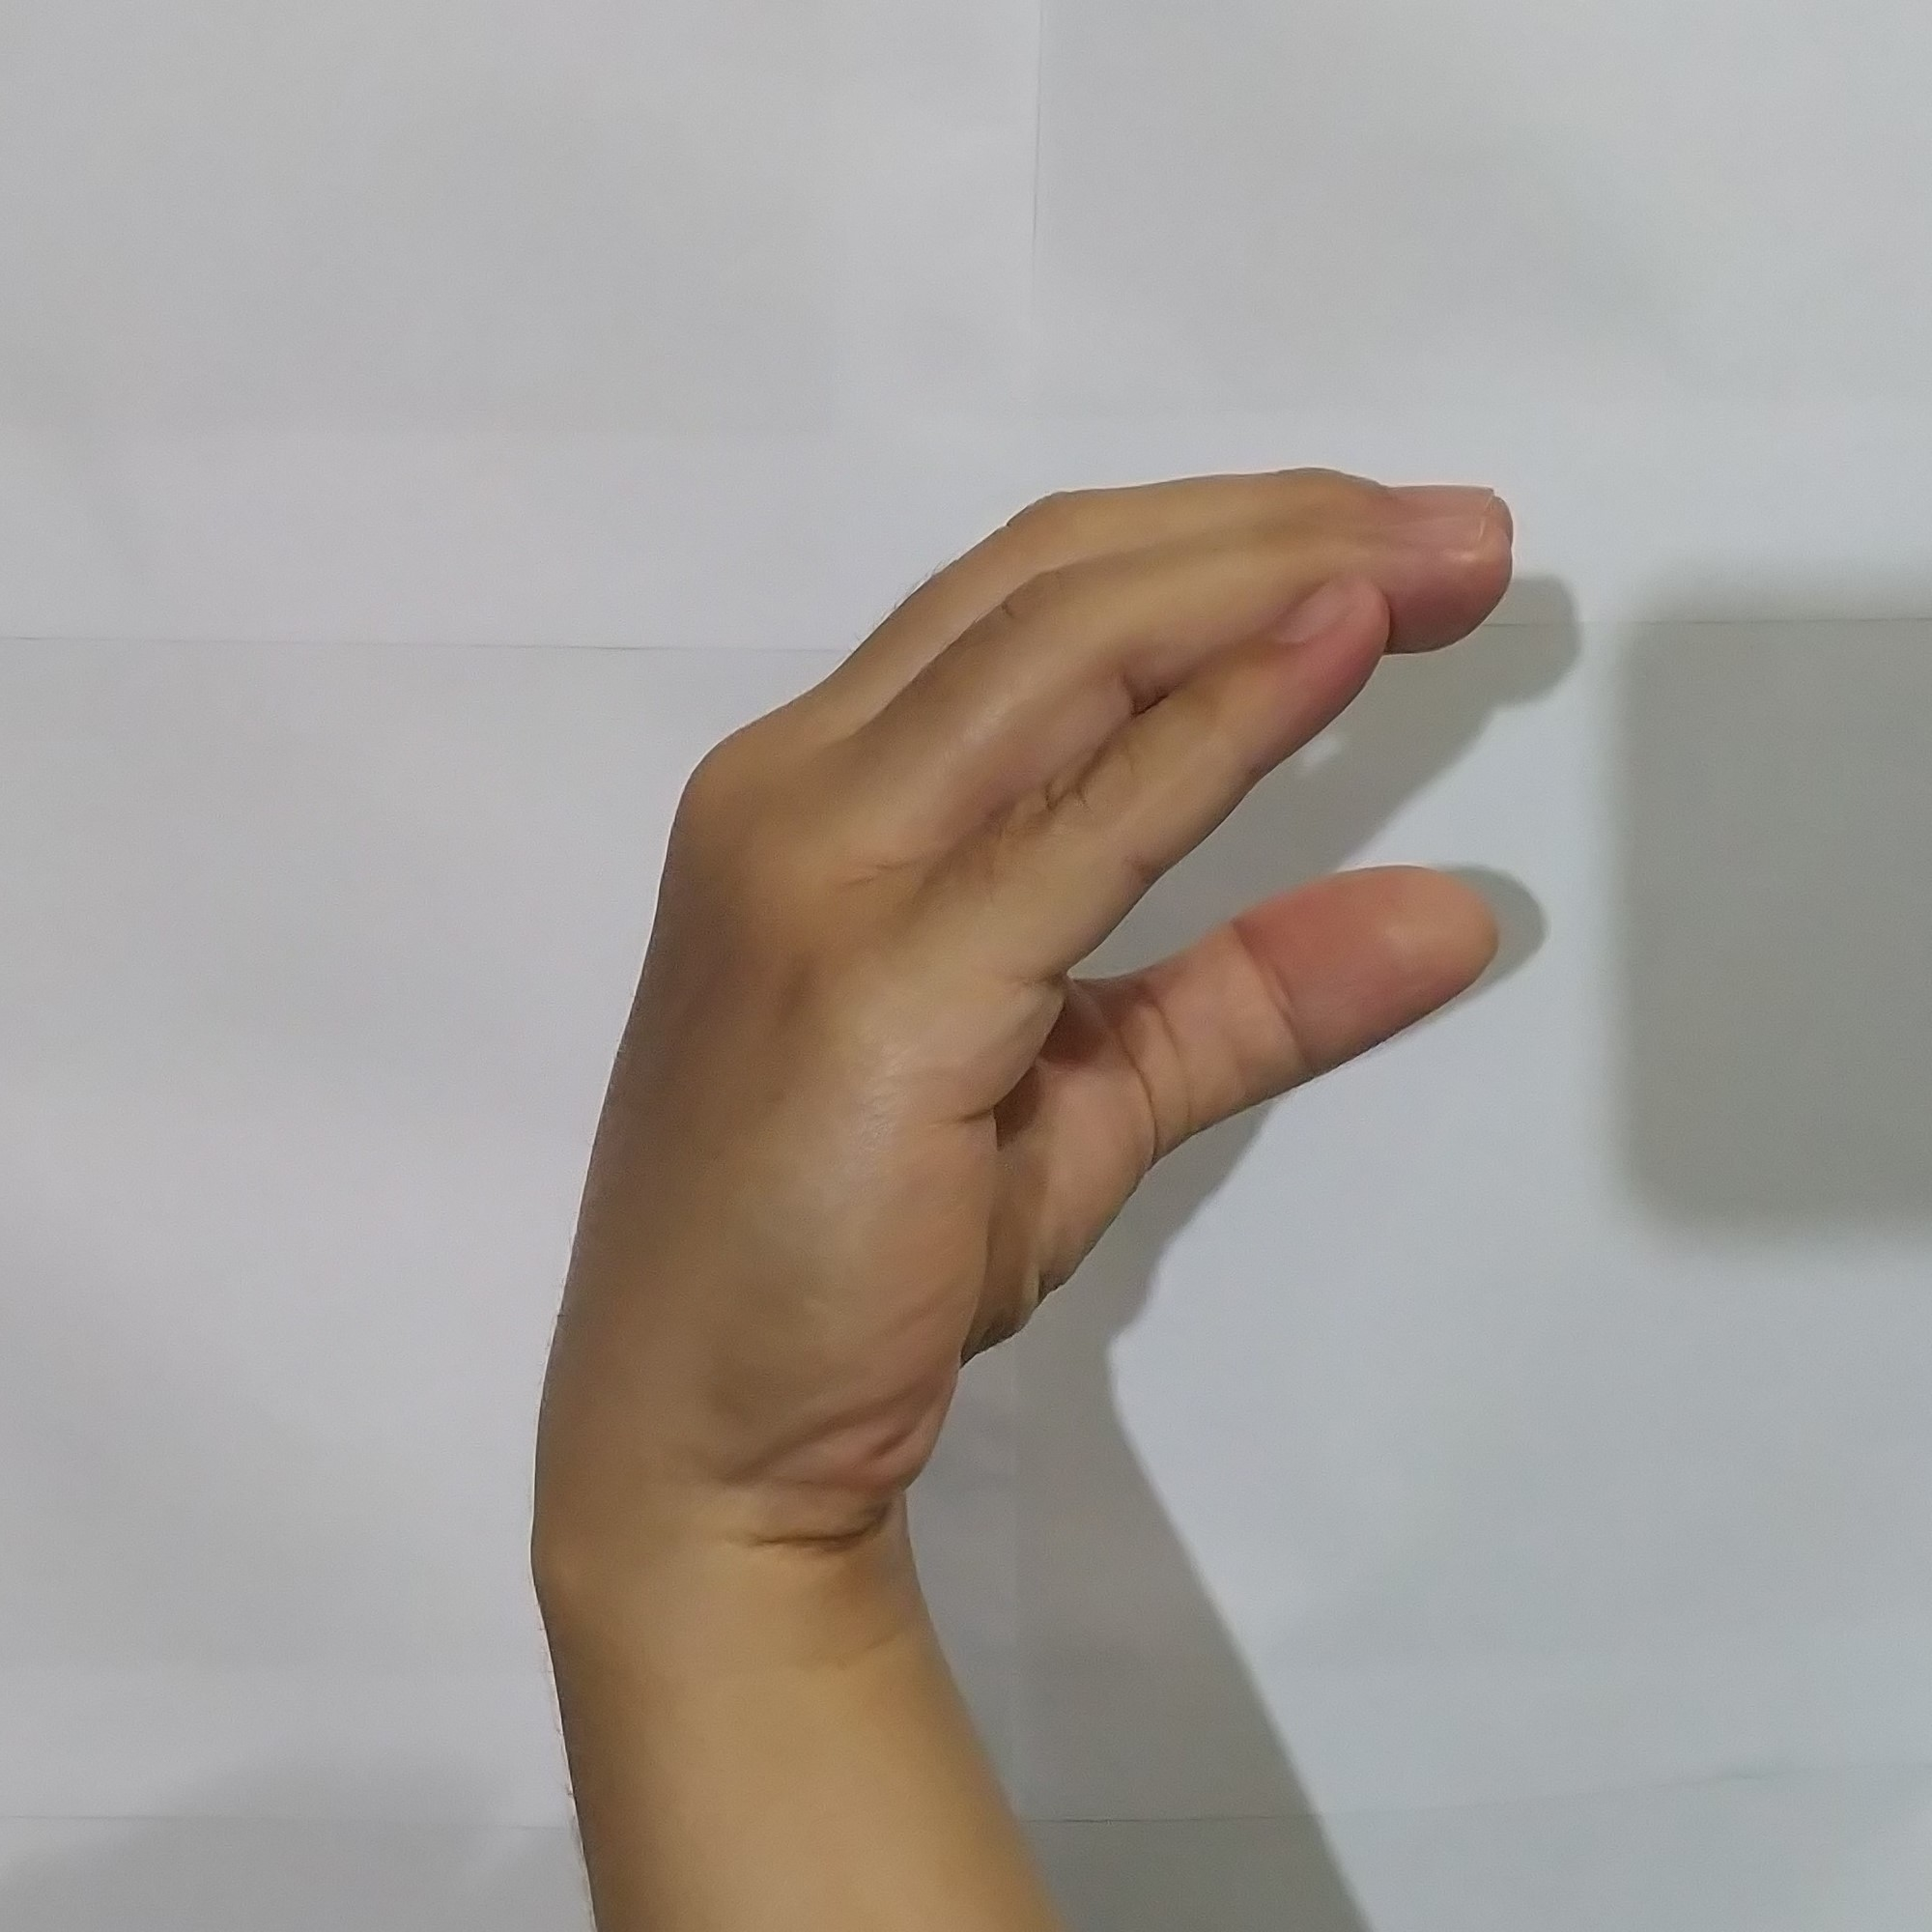C: (540, 437, 1543, 1511)
